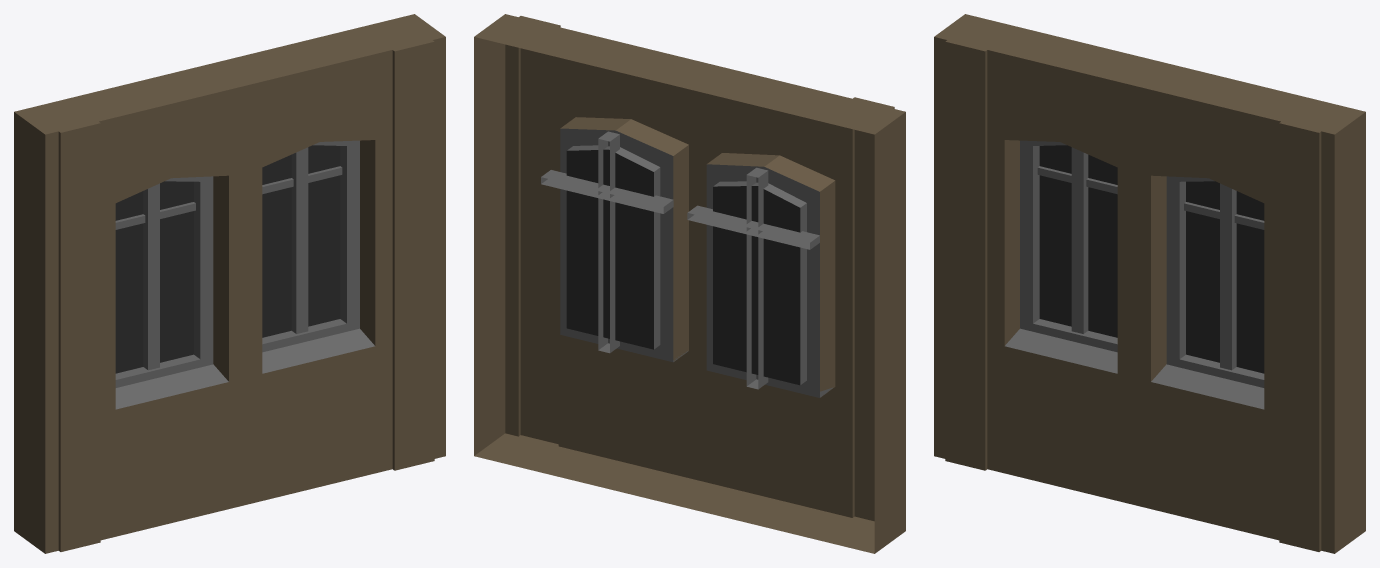
Rendered from middle_floor_wall_02.fbx.
3 views of the same model, side by side, from view 1: azimuth 30°, elevation 25°; view 2: azimuth 150°, elevation 25°; view 3: azimuth 330°, elevation 25° (orthographic).
Parts seen in each view (by area): view 1: middle_floor_wall_02; view 2: middle_floor_wall_02; view 3: middle_floor_wall_02.
Part boxes in pixels (<box>): middle_floor_wall_02: <box>14,14,445,553</box>; middle_floor_wall_02: <box>474,14,905,553</box>; middle_floor_wall_02: <box>934,14,1365,553</box>.
Size of the model in its own units: 300 by 300 by 43.25.
